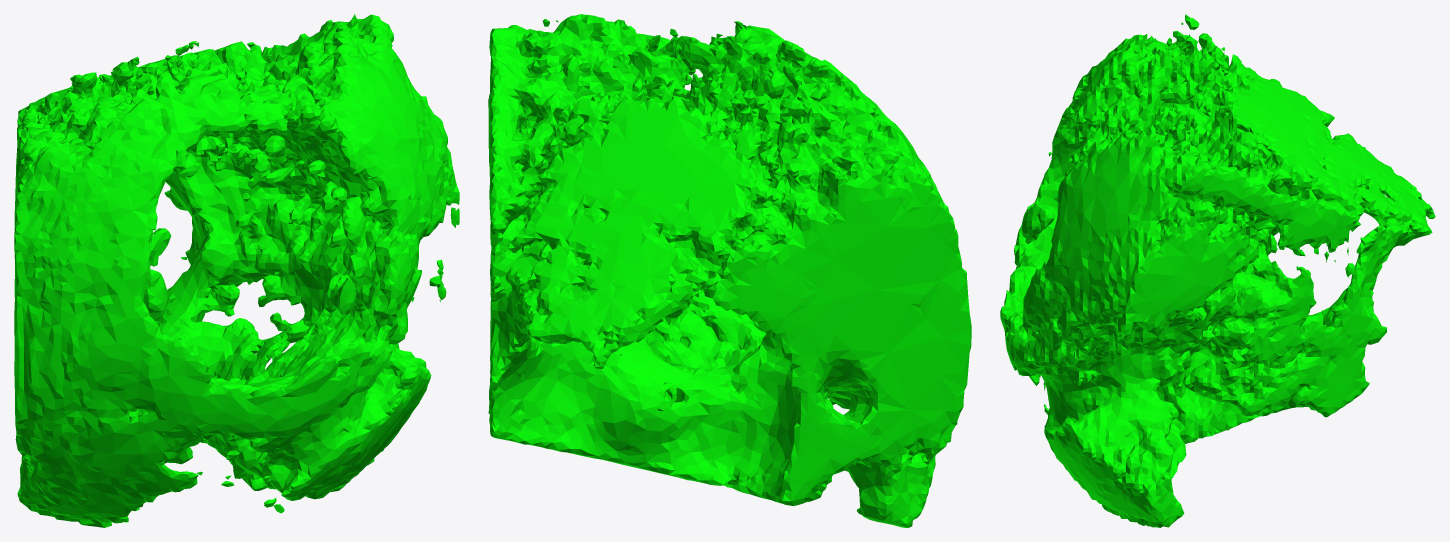
The model's file is B939XXXX-1_base_37.obj.
3 views of the same model, side by side, from view 1: azimuth 30°, elevation 25°; view 2: azimuth 150°, elevation 25°; view 3: azimuth 270°, elevation 25° (orthographic). The views are drawn at different scales.
Parts seen in each view (by area): view 1: 37_base; view 2: 37_base; view 3: 37_base.
Part boxes in pixels (x1=…): 37_base: x1=14, y1=14, x2=459, y2=527; 37_base: x1=488, y1=14, x2=971, y2=527; 37_base: x1=1000, y1=14, x2=1435, y2=527.
Bounding box in the file's own units: 220 × 217 × 204.
